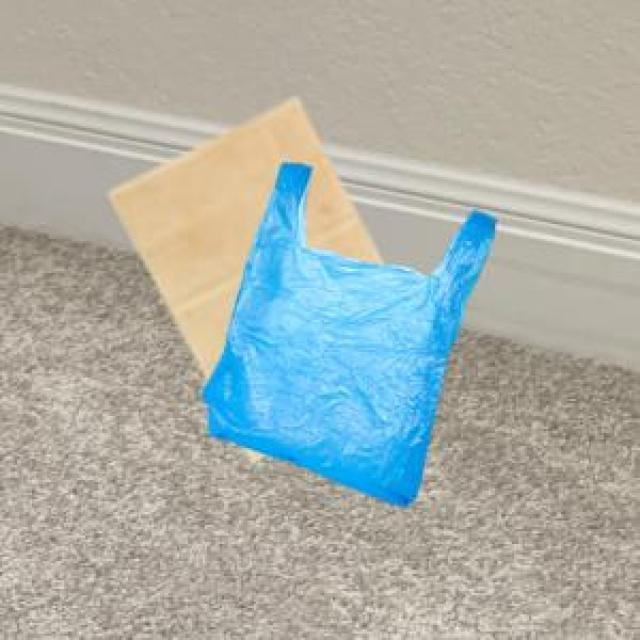paper: (107, 96, 378, 416)
